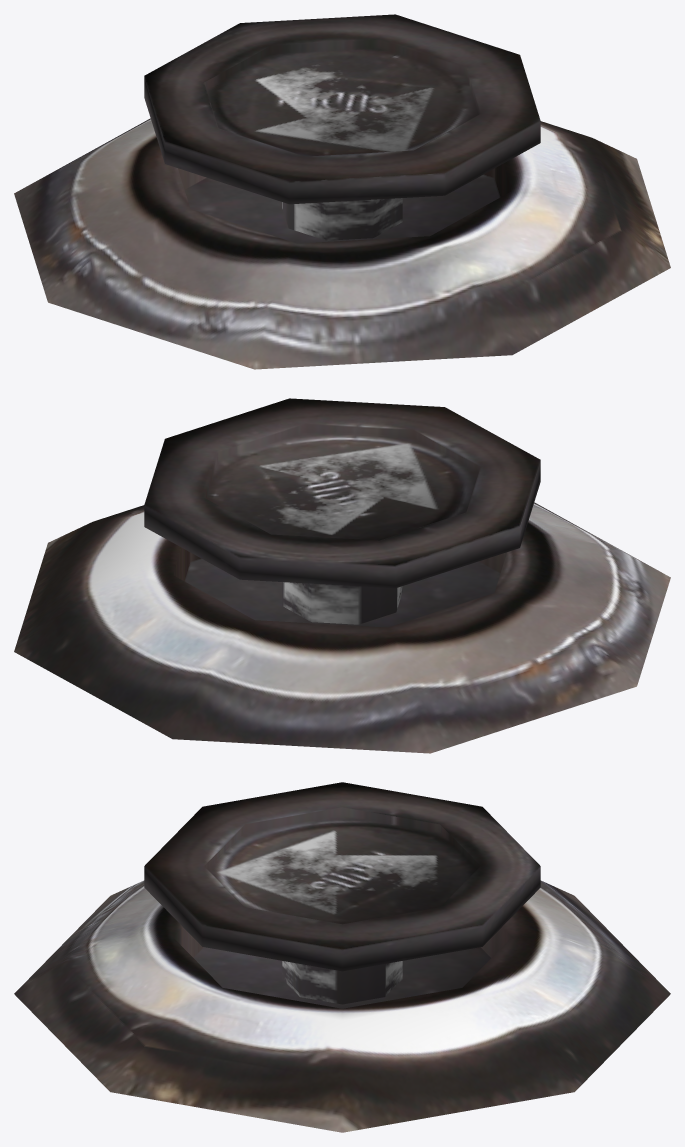
The model's file is button-down1.glb.
3 renders of one model, top to bottom at view 1: azimuth 30°, elevation 25°; view 2: azimuth 150°, elevation 25°; view 3: azimuth 270°, elevation 25°, orthographic. The views are drawn at different scales.
Visible parts, largest first — view 1: down1-base, down1-b; view 2: down1-base, down1-b; view 3: down1-base, down1-b.
Boxes of the visible parts, x1,y1,x2,y2 form: down1-base: (14, 118, 670, 369); down1-b: (144, 14, 540, 240); down1-base: (14, 502, 670, 753); down1-b: (144, 398, 540, 624); down1-base: (14, 880, 670, 1132); down1-b: (144, 782, 540, 1004).
Size of the model in its own units: 1.63 by 0.3513 by 1.63.
Materials: 1 (1 with a texture image).
